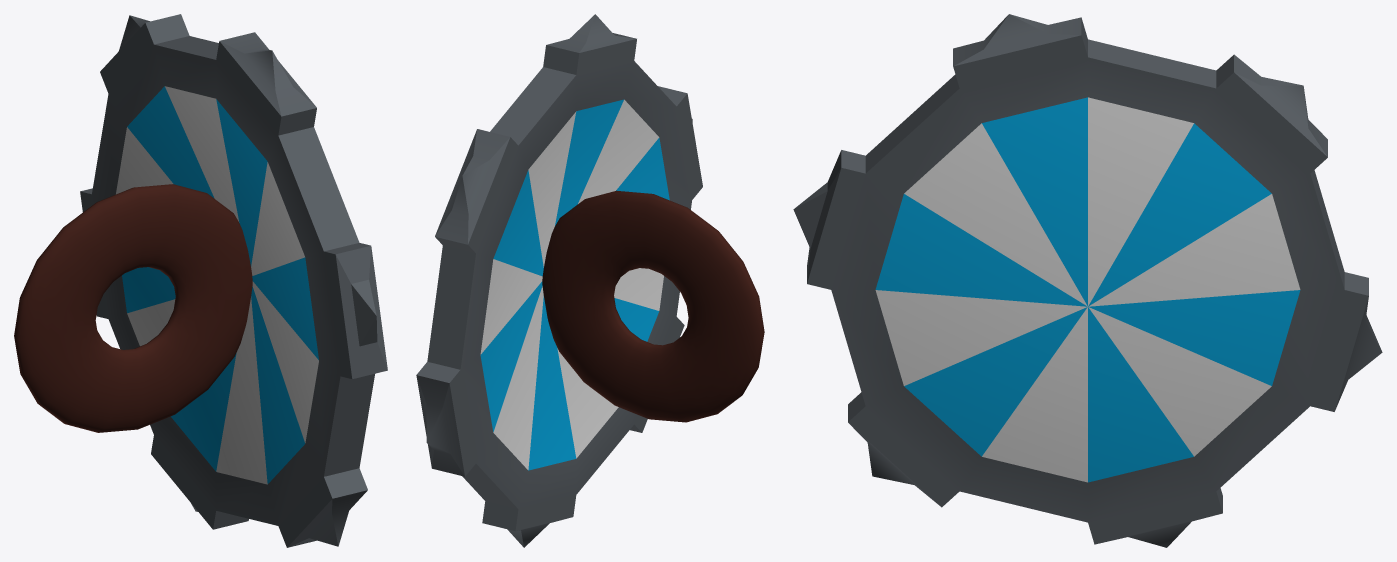
File: Shield(Textured).fbx
3 renders of one model, left to right at view 1: azimuth 30°, elevation 25°; view 2: azimuth 150°, elevation 25°; view 3: azimuth 270°, elevation 25°, orthographic. The views are drawn at different scales.
Visible parts, largest first — view 1: pTorus2; view 2: pTorus2; view 3: pTorus2.
Part boxes in pixels (x1,y1,x2,y2): pTorus2: (14,14,387,547); pTorus2: (416,14,764,547); pTorus2: (793,14,1382,547).
Size of the model in its own units: 15.18 by 27.73 by 27.72.
